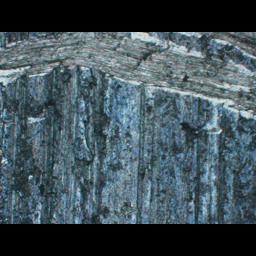d: (0, 32, 255, 126)
